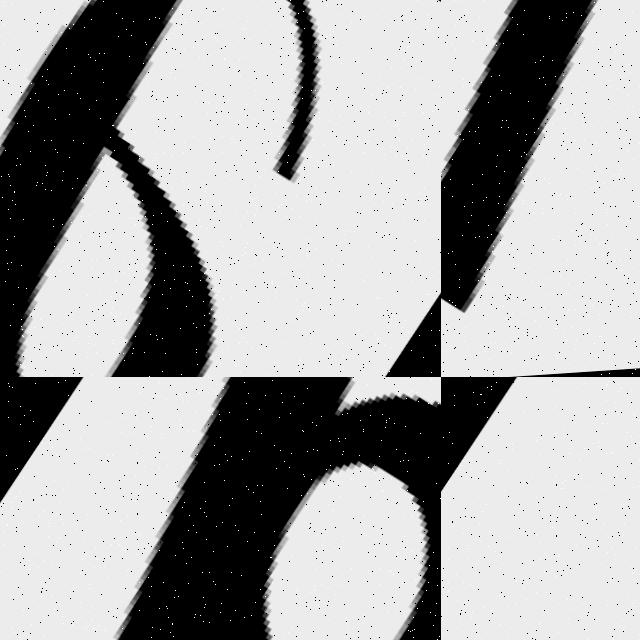B: (114, 377, 441, 640)
E: (0, 0, 216, 377)
L: (441, 0, 640, 355)
Z: (441, 377, 640, 640)
